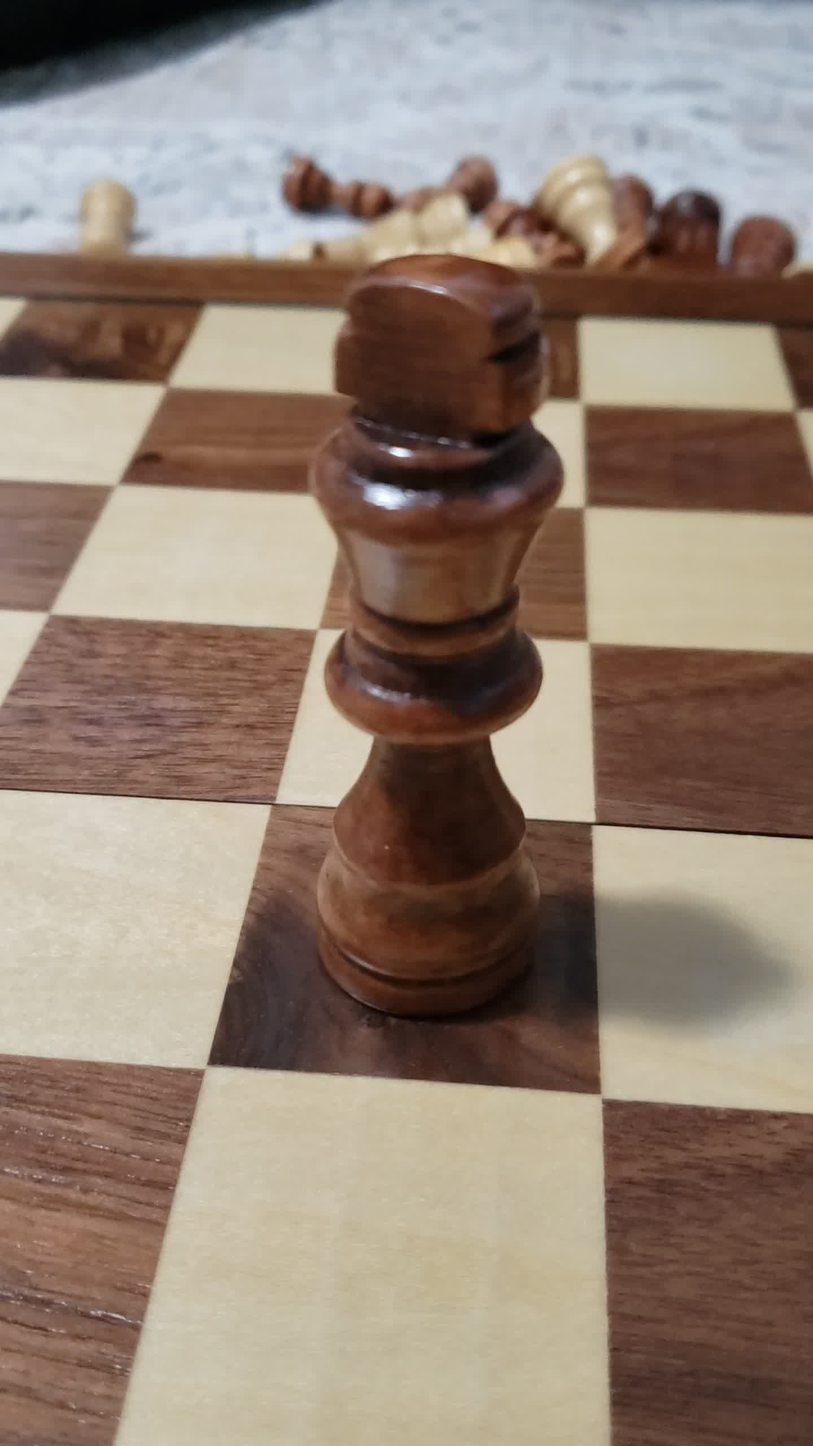black-king: (268, 249, 593, 1041)
